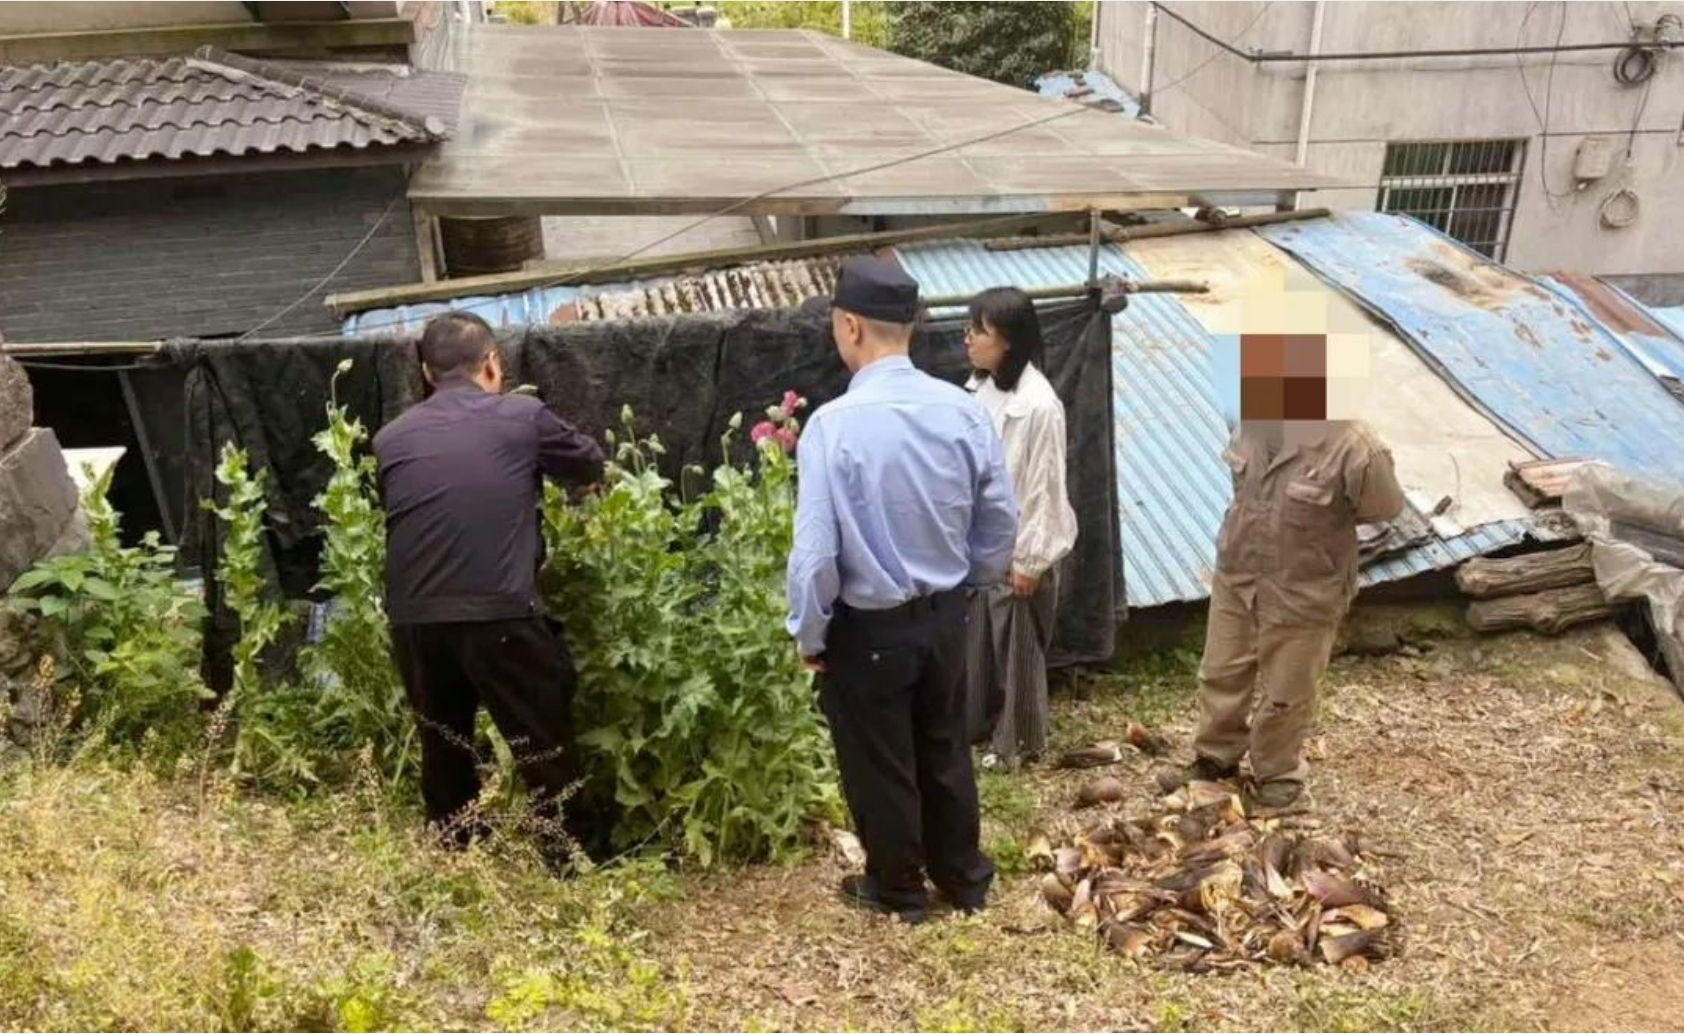Poppy: (552, 378, 842, 858), (204, 396, 407, 771)
